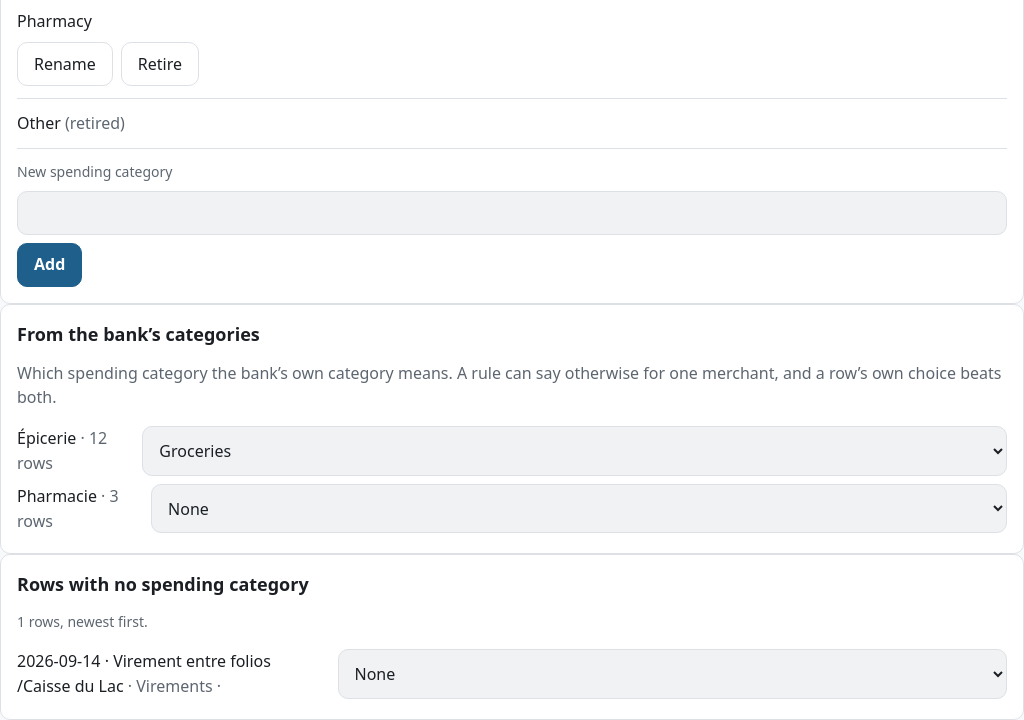
Test: a row with no spending category can be given one there, which writes its override
(page scrolled)
Expected: the text "Virement entre folios" is shown, top-left (17, 650), bottom-right (271, 697)
Select "Groceries" in the dropdown named "Spending category for 2026-09-14 Virement entre folios /Cais" at [672, 674], box top-left (338, 649), bottom-right (1007, 699)
(page scrolled)
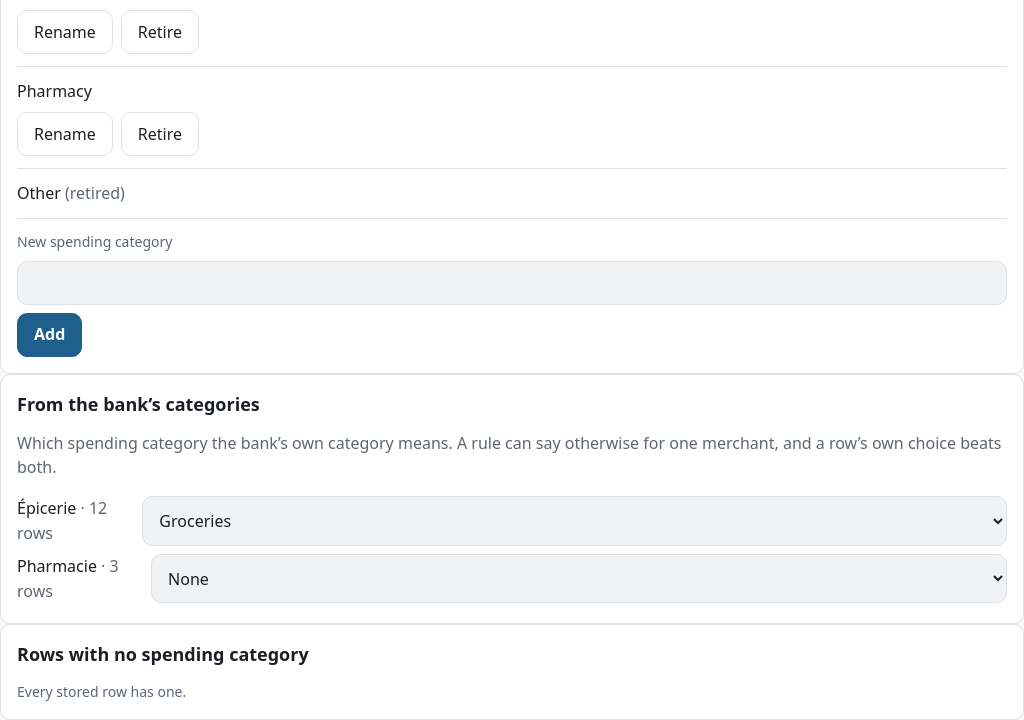
Now the text "Every stored row has one." is shown, box top-left (17, 682), bottom-right (186, 701)
